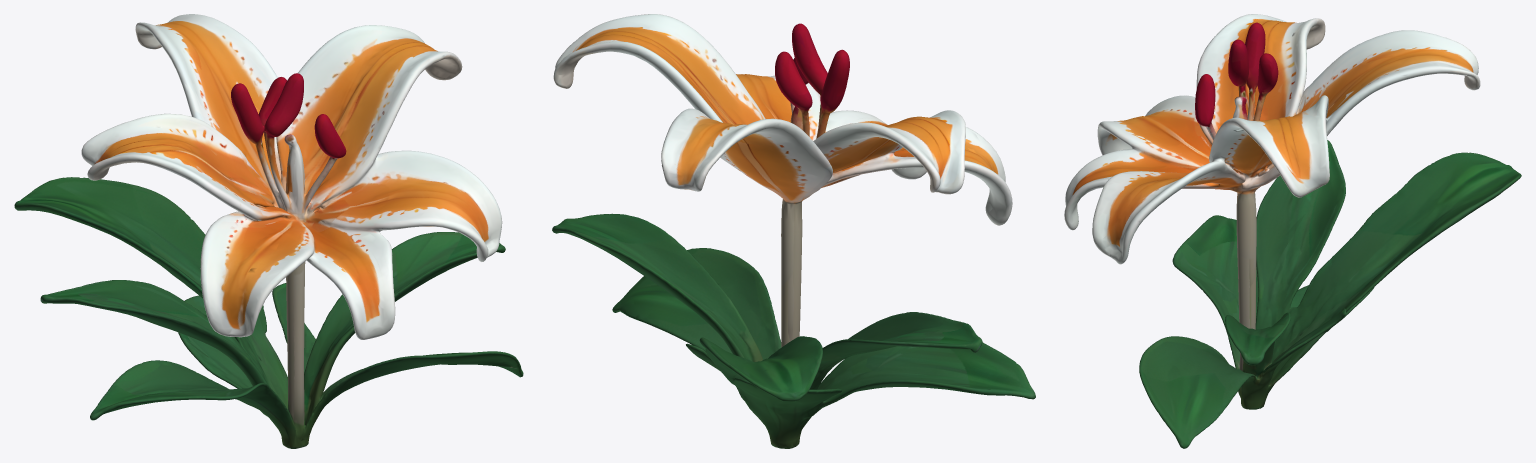
File: baihe.glb
3 views of the same model, side by side, from view 1: azimuth 30°, elevation 25°; view 2: azimuth 150°, elevation 25°; view 3: azimuth 270°, elevation 25° (orthographic). The views are drawn at different scales.
Parts seen in each view (by area): view 1: texture_v100.001; view 2: texture_v100.001; view 3: texture_v100.001.
Part boxes in pixels (bbox=[...]): texture_v100.001: bbox=[14, 14, 523, 448]; texture_v100.001: bbox=[552, 14, 1035, 448]; texture_v100.001: bbox=[1064, 14, 1521, 448].
Size of the model in its own units: 0.9858 by 0.8367 by 0.9571.
1 material, 1 textured.
